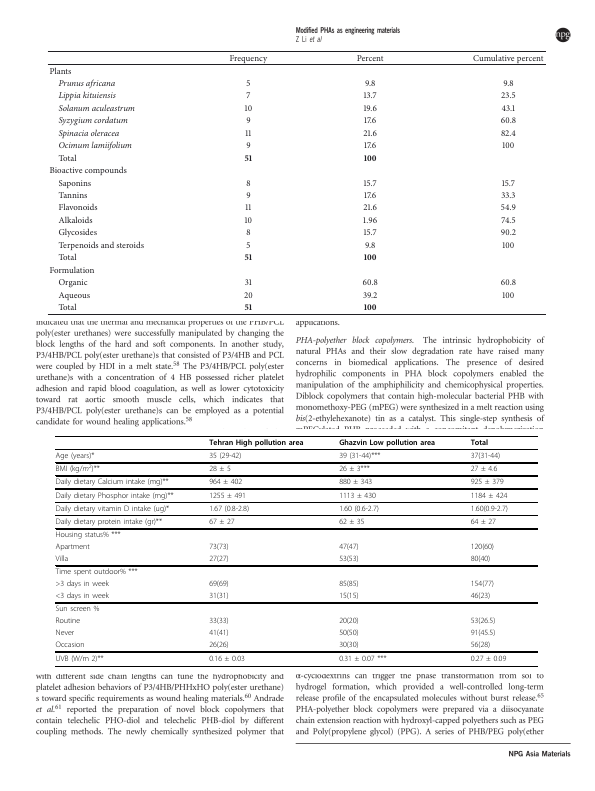borderless: (46, 49, 546, 314), (54, 434, 538, 666)
cell: (55, 491, 175, 500), (55, 517, 163, 527), (55, 478, 170, 487), (55, 504, 170, 513), (57, 240, 145, 251), (338, 438, 436, 447), (48, 165, 128, 176), (57, 103, 136, 114), (208, 438, 304, 447), (57, 140, 133, 151), (472, 53, 545, 64), (55, 568, 138, 577), (57, 116, 129, 126), (57, 128, 120, 139), (55, 530, 121, 540), (57, 78, 116, 89), (57, 91, 117, 101), (55, 591, 110, 601), (48, 265, 95, 276), (54, 463, 101, 474), (55, 580, 110, 589), (55, 654, 104, 663), (338, 654, 387, 663), (338, 451, 381, 461), (229, 53, 268, 64), (57, 203, 99, 213), (57, 228, 98, 238), (54, 451, 95, 461), (57, 215, 94, 226), (55, 605, 100, 614), (208, 504, 250, 513), (338, 504, 380, 513), (57, 290, 91, 301), (55, 542, 91, 552), (57, 277, 89, 288), (208, 491, 247, 500), (338, 491, 377, 500), (470, 504, 509, 513), (57, 178, 92, 188), (470, 491, 508, 500), (208, 654, 246, 663), (57, 190, 88, 201), (208, 451, 242, 461), (470, 654, 507, 663), (338, 464, 371, 474), (356, 53, 385, 64), (208, 478, 243, 487), (338, 478, 373, 487), (470, 478, 505, 487), (470, 451, 501, 461), (470, 464, 498, 474), (208, 517, 235, 527), (338, 517, 365, 527), (470, 517, 497, 527), (55, 641, 85, 650), (470, 542, 495, 552), (48, 66, 72, 76), (208, 464, 232, 474), (55, 617, 81, 626), (470, 617, 496, 626), (470, 629, 496, 638), (57, 153, 78, 164), (57, 302, 78, 313), (470, 580, 495, 589), (208, 542, 230, 552), (208, 554, 230, 564), (208, 591, 230, 601), (57, 253, 78, 263), (338, 542, 359, 552), (338, 554, 359, 564), (470, 554, 491, 564), (338, 591, 359, 601), (470, 591, 491, 601), (208, 580, 230, 589), (208, 617, 230, 626), (208, 629, 230, 638), (208, 641, 230, 650), (338, 580, 359, 589), (338, 617, 359, 626), (338, 629, 359, 638), (338, 641, 359, 650), (470, 641, 491, 650), (500, 128, 517, 139), (500, 215, 517, 226), (362, 277, 379, 288), (500, 277, 517, 288), (55, 629, 75, 638), (362, 103, 378, 114), (362, 128, 378, 139), (500, 190, 516, 201), (362, 215, 378, 226), (362, 290, 378, 301), (470, 438, 489, 447), (500, 91, 517, 101), (500, 116, 517, 126), (500, 203, 517, 213), (500, 228, 517, 238), (501, 103, 516, 114), (362, 203, 378, 213), (363, 140, 377, 151), (501, 140, 515, 151), (363, 190, 377, 201), (501, 240, 515, 251), (501, 290, 515, 301), (363, 91, 378, 101), (363, 178, 378, 188), (501, 178, 516, 188), (363, 228, 378, 238), (502, 78, 515, 89), (363, 116, 377, 126), (55, 554, 69, 564), (363, 302, 378, 311), (364, 78, 376, 89), (364, 240, 376, 251), (243, 290, 254, 301), (363, 153, 378, 161), (363, 253, 378, 261), (244, 103, 253, 114), (244, 215, 253, 226), (244, 277, 253, 288), (244, 128, 252, 139), (244, 302, 253, 311), (244, 203, 252, 213), (245, 140, 252, 151), (245, 190, 252, 201), (244, 153, 253, 161), (244, 253, 253, 261), (245, 116, 252, 126), (245, 178, 252, 188), (245, 228, 252, 238), (245, 78, 251, 89), (245, 240, 251, 251), (245, 91, 251, 101)
